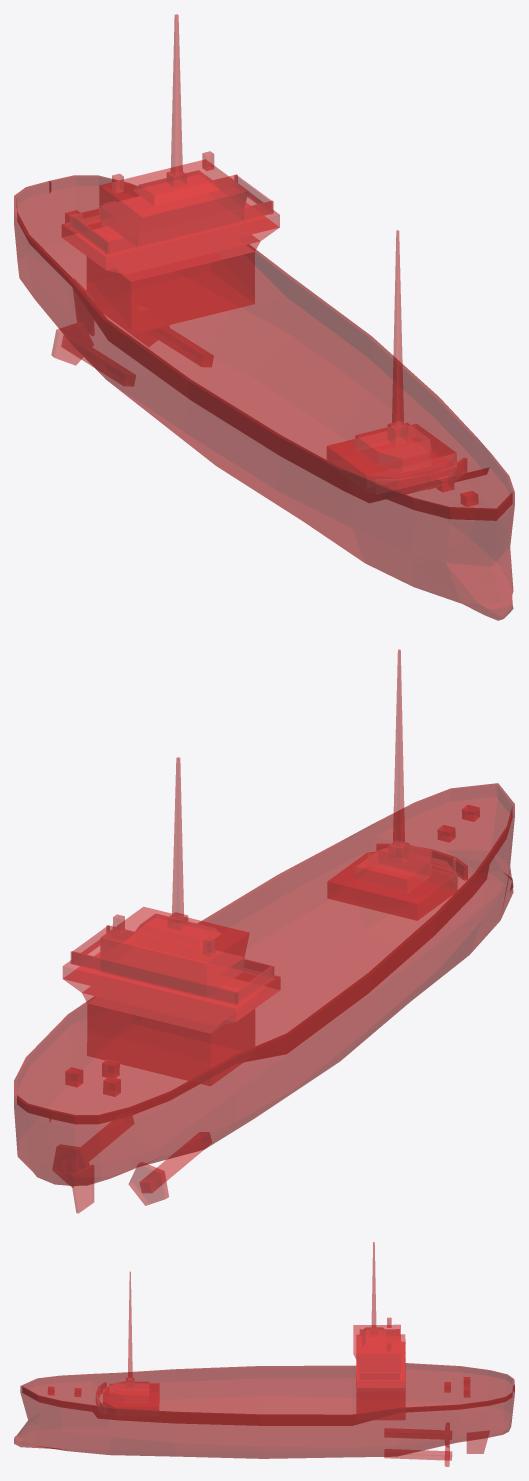
Rendered from SM_Prop_Ship_01_Collision.fbx.
3 renders of one model, top to bottom at view 1: azimuth 30°, elevation 25°; view 2: azimuth 150°, elevation 25°; view 3: azimuth 270°, elevation 25°, orthographic. The views are drawn at different scales.
Parts seen in each view (by area): view 1: SM_Prop_Ship_01_Collision; view 2: SM_Prop_Ship_01_Collision; view 3: SM_Prop_Ship_01_Collision.
Boxes of the visible parts, x1,y1,x2,y2 form: SM_Prop_Ship_01_Collision: [14, 14, 514, 620]; SM_Prop_Ship_01_Collision: [14, 649, 514, 1213]; SM_Prop_Ship_01_Collision: [14, 1242, 514, 1466].
Size of the model in its own units: 1764 by 3545 by 7498.
